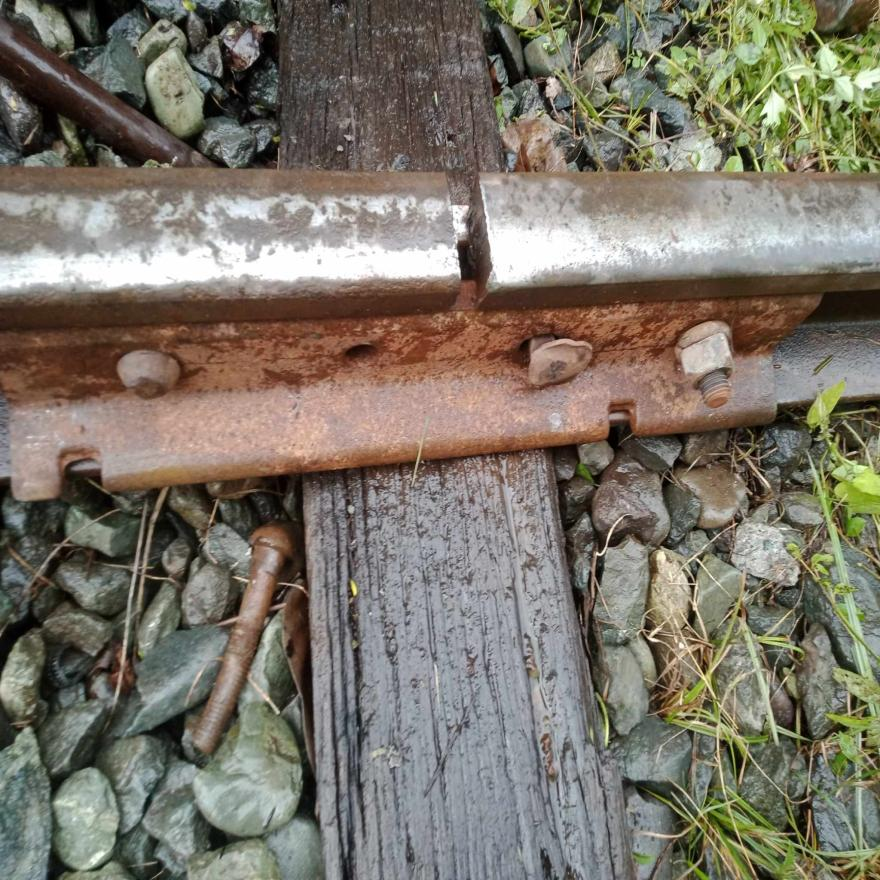railway-gap: (391, 134, 540, 338)
